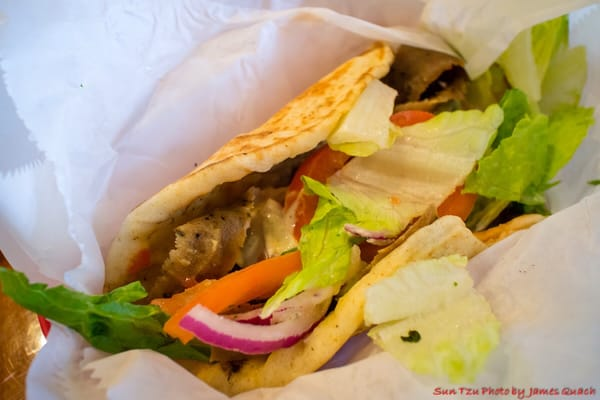soup: (87, 25, 600, 391)
